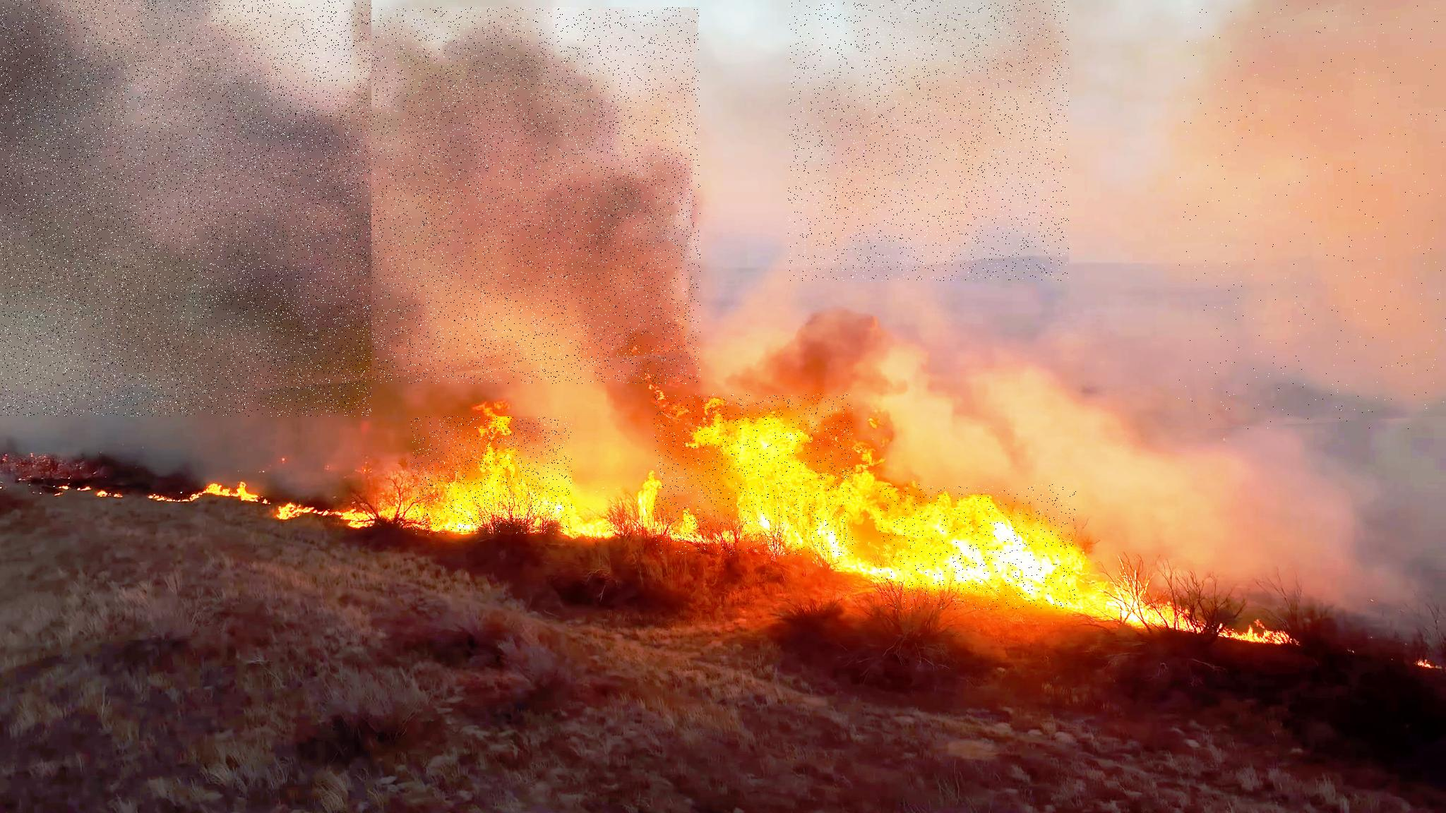fire: (654, 394, 853, 555), (880, 484, 1076, 610), (411, 416, 572, 535)
smoke: (0, 0, 371, 416), (335, 7, 700, 384), (1178, 0, 1446, 429), (788, 0, 1069, 281)
